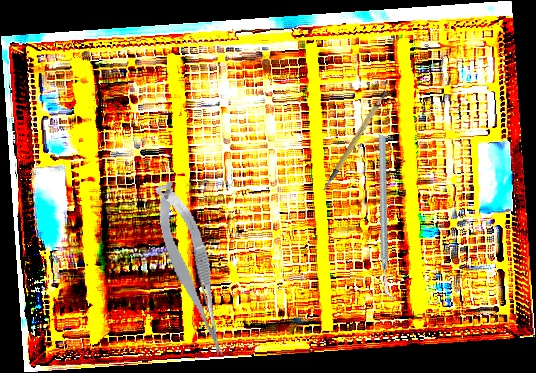Chopper: (322, 133, 452, 301)
Micro Scissor: (149, 175, 232, 365)
Scalpel Handle: (307, 88, 400, 193)
